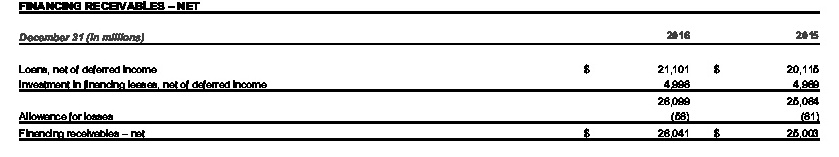table: (0, 0, 839, 157)
